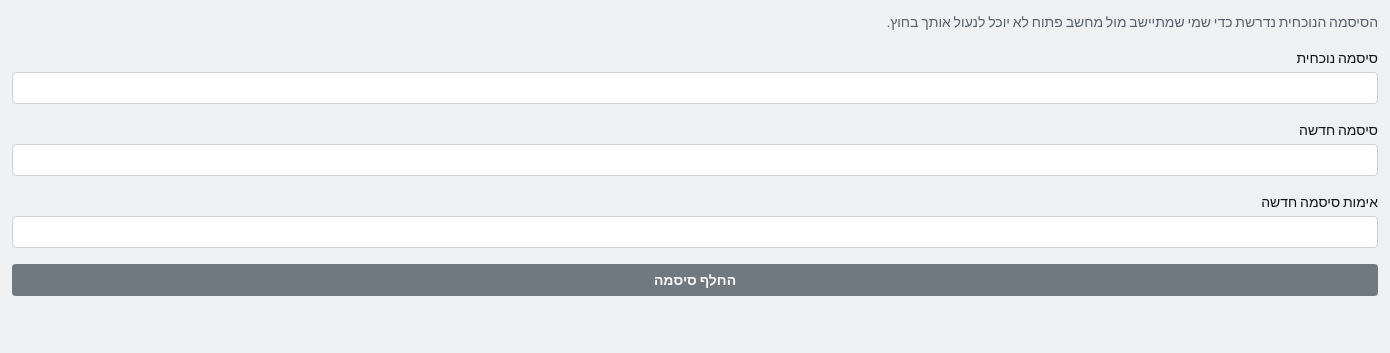
Test: טופס החלפת סיסמה › שתי הקלדות שאינן זהות נעצרות בלקוח ואינן מגיעות לשרת
Type "yashan-123" into the password field labelled "סיסמה נוכחית" at (695, 88), box [12,72,1378,104]
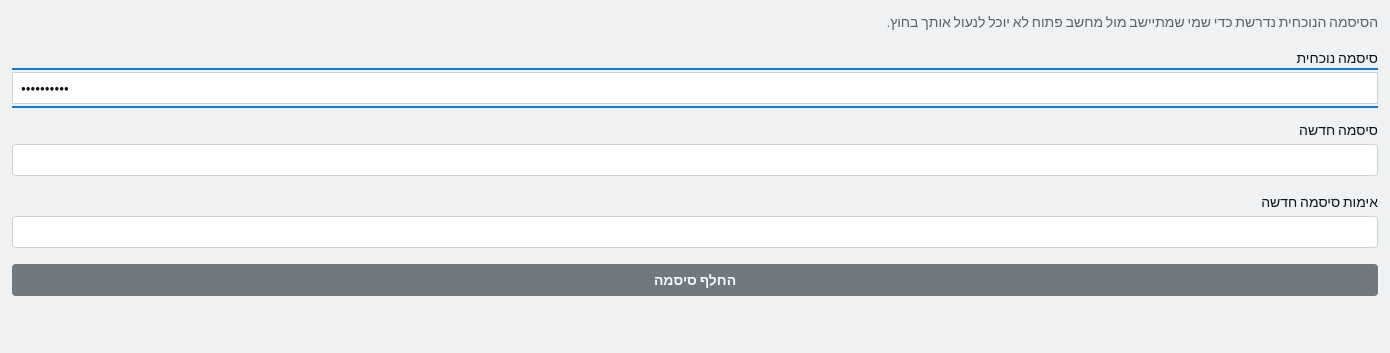
Type "chadash-456" into the password field labelled "סיסמה חדשה" at (695, 160), box [12,144,1378,176]
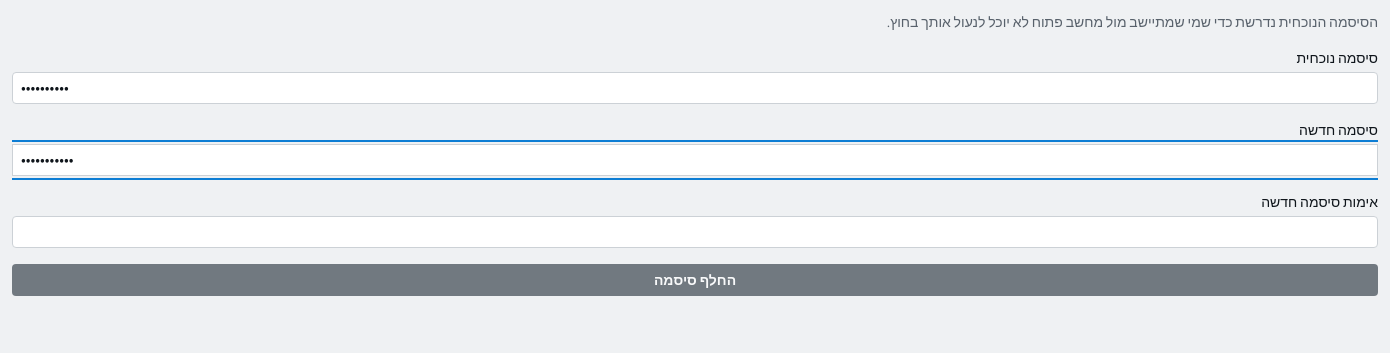
Type "chadash-457" into the password field labelled "אימות סיסמה חדשה" at (695, 232), box [12,216,1378,248]
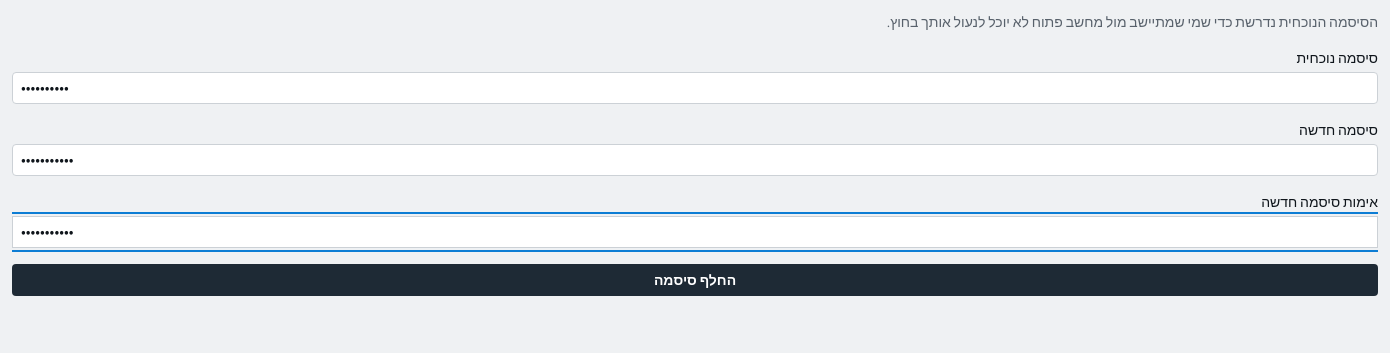
Click the button "החלף סיסמה" at (695, 280), box [12,264,1378,296]
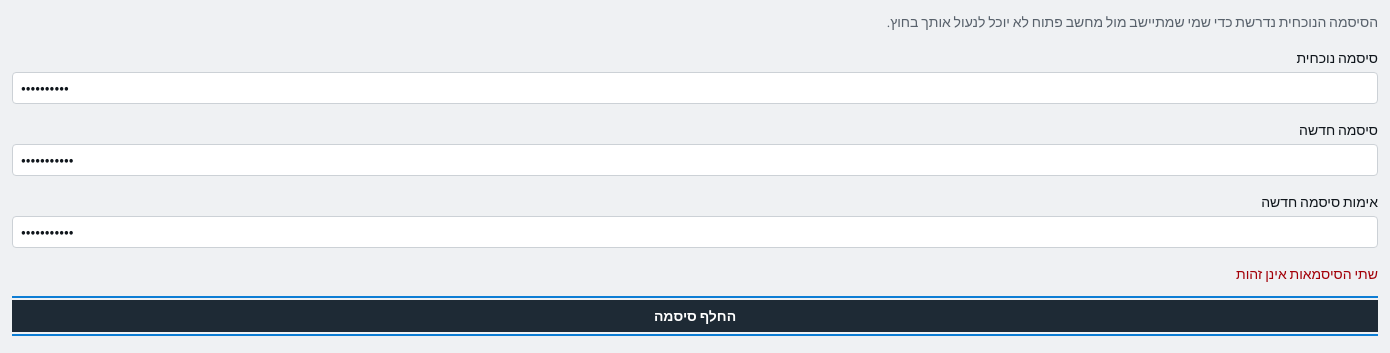
Expected: the text "שתי הסיסמאות אינן זהות" is shown, [1236,265,1378,283]
